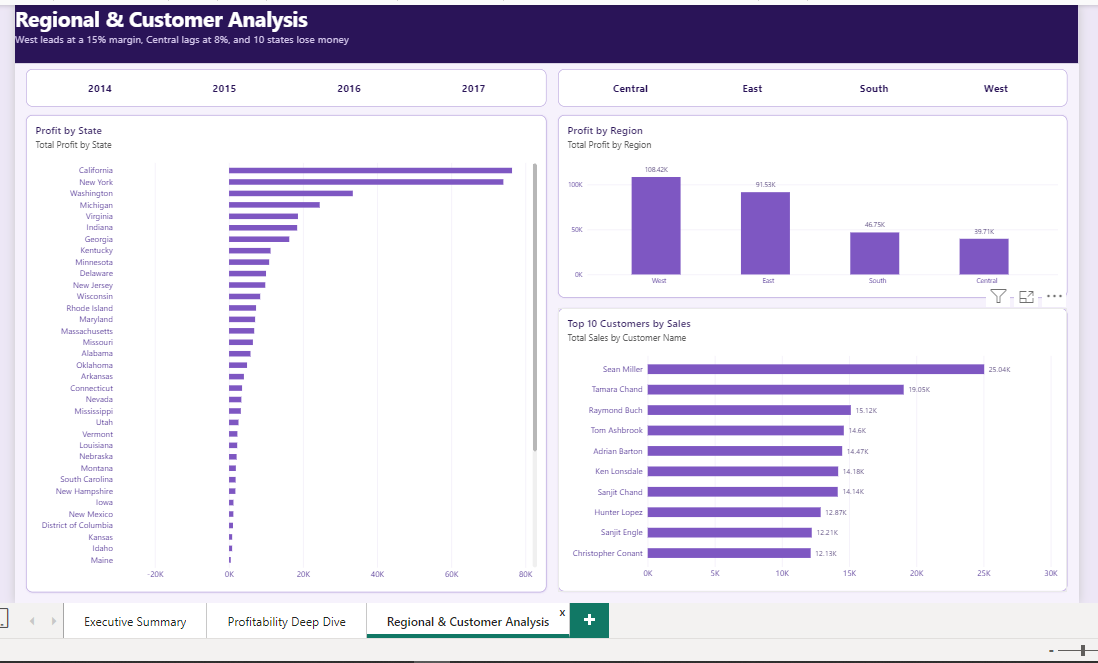

Layout of this report page (visuals, bound fields, positions):
{"tool":"powerbi","page":{"name":"Regional & Customer Analysis","canvas":[1920,1080],"ordinal":2},"visuals":[{"type":"clusteredBarChart","title":"Profit by State","fields":{"Category":["Fact_Orders.State"],"Y":["Key Measures.Total Profit"]},"box":[20,198,940,862],"z":1},{"type":"clusteredColumnChart","title":"Profit by Region","fields":{"Category":["Fact_Orders.Region"],"Y":["Key Measures.Total Profit"]},"box":[980,198,920,330],"z":2},{"type":"clusteredBarChart","title":"Top 10 Customers by Sales","fields":{"Category":["Fact_Orders.Customer Name"],"Y":["Key Measures.Total Sales"]},"box":[980,548,920,512],"z":3},{"type":"slicer","fields":{"Values":["Dim_Date.Year"]},"box":[20,115,940,68],"z":7000},{"type":"slicer","fields":{"Values":["Fact_Orders.Region"]},"box":[980,115,920,68],"z":7001},{"type":"textbox","box":[0,0,1920,105],"z":9000}]}

Visuals, with their boxes on the page's 1920x1080 design canvas (x1, y1, x2, y2). These are canvas units, not pixel positions in the 1098x663 screenshot, which may show the page scaled, cropped or inside an application window:
"Profit by State" clusteredBarChart: BBox(20, 198, 960, 1060)
"Profit by Region" clusteredColumnChart: BBox(980, 198, 1900, 528)
"Top 10 Customers by Sales" clusteredBarChart: BBox(980, 548, 1900, 1060)
slicer - Dim_Date.Year: BBox(20, 115, 960, 183)
slicer - Fact_Orders.Region: BBox(980, 115, 1900, 183)
textbox: BBox(0, 0, 1920, 105)
